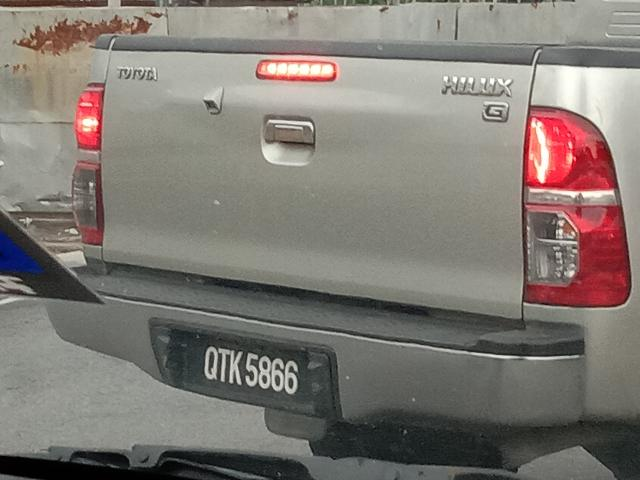License_Plate: (185, 341, 319, 409)
car: (41, 15, 640, 435)
